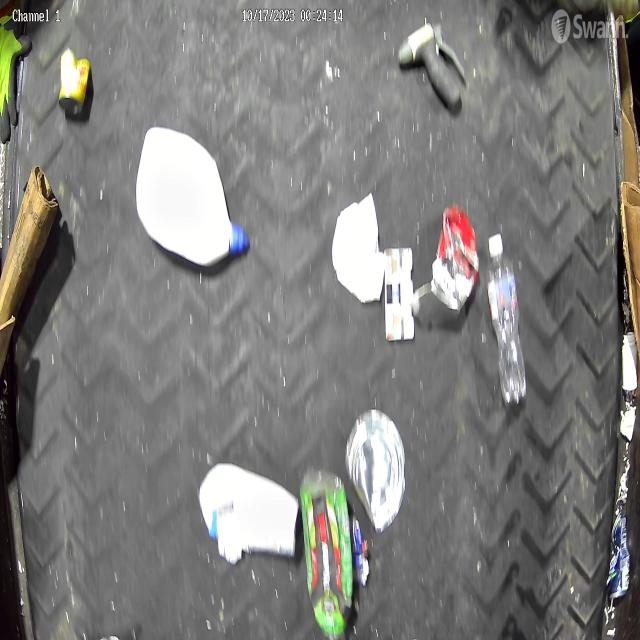can: (345, 408, 406, 533), (606, 511, 630, 601), (57, 50, 90, 115)
milk_jug: (134, 126, 247, 267)
plastic_bottle: (487, 234, 527, 405)
